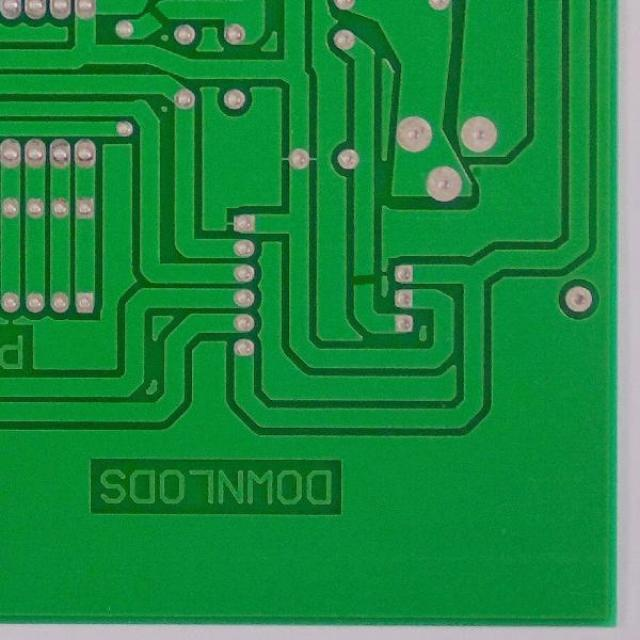open_circuit: (141, 1, 175, 29), (350, 271, 377, 294)
